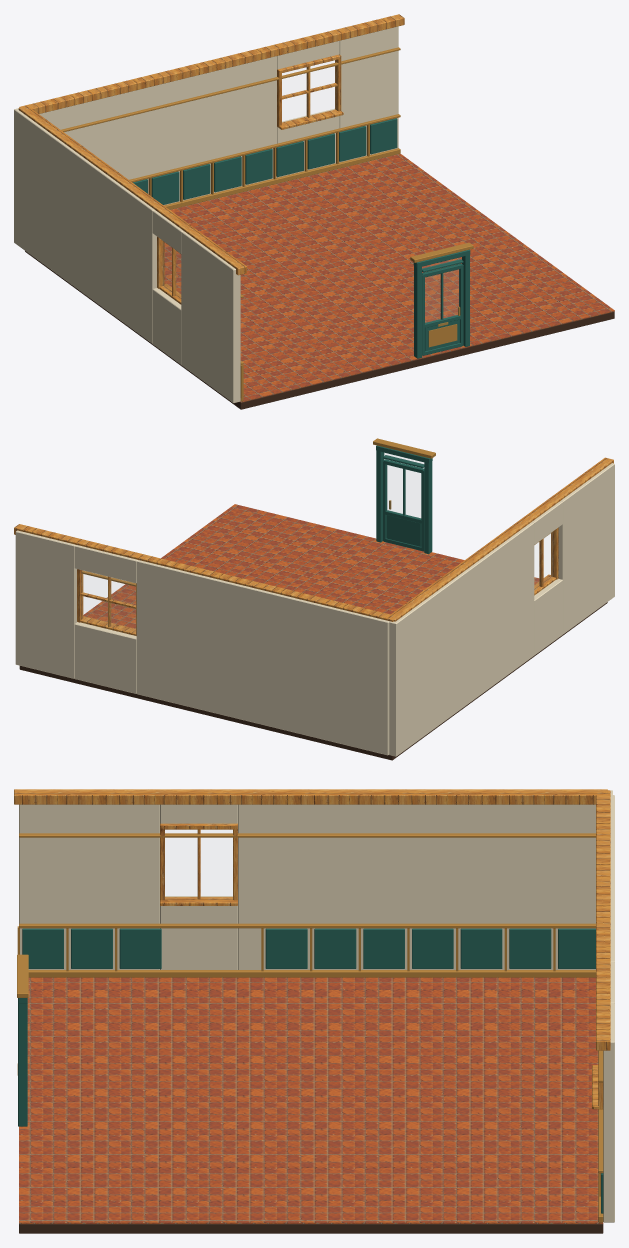
3 renders of one model, top to bottom at view 1: azimuth 30°, elevation 25°; view 2: azimuth 150°, elevation 25°; view 3: azimuth 270°, elevation 25°, orthographic. The views are drawn at different scales.
Visible parts, largest first — view 1: shop_bakery_floor, shop_bakery_wall, shop_oak, shop_bakery_wainscot, shop_bakery_trim, shop_wood_dark, door_leaf_bakery, shop_bakery_door; view 2: shop_bakery_wall, shop_bakery_floor, shop_oak, door_leaf_bakery, shop_wood_dark, shop_bakery_door, shop_bakery_trim; view 3: shop_bakery_floor, shop_bakery_wall, shop_bakery_wainscot, shop_oak, shop_bakery_trim, shop_wood_dark, shop_bakery_door.
Part boxes in pixels (<box>): shop_bakery_floor: <box>164,153,614,402</box>; shop_bakery_wall: <box>14,26,398,403</box>; shop_oak: <box>18,14,404,304</box>; shop_bakery_wainscot: <box>133,118,397,204</box>; shop_bakery_trim: <box>60,47,473,401</box>; shop_wood_dark: <box>25,251,614,409</box>; door_leaf_bakery: <box>422,263,463,355</box>; shop_bakery_door: <box>413,249,470,358</box>; shop_bakery_wall: <box>15,463,614,756</box>; shop_bakery_floor: <box>83,504,539,628</box>; shop_oak: <box>14,457,613,635</box>; door_leaf_bakery: <box>383,459,424,551</box>; shop_wood_dark: <box>19,602,607,760</box>; shop_bakery_door: <box>376,445,432,554</box>; shop_bakery_trim: <box>81,438,553,586</box>; shop_bakery_floor: <box>19,977,603,1223</box>; shop_bakery_wall: <box>19,790,614,1222</box>; shop_bakery_wainscot: <box>22,928,603,1213</box>; shop_oak: <box>14,789,610,1109</box>; shop_bakery_trim: <box>17,833,603,1222</box>; shop_wood_dark: <box>19,1224,603,1233</box>; shop_bakery_door: <box>18,998,27,1126</box>.
Bounding box in the file's own units: 12.34 × 4.41 × 12.34.
9 materials, 2 textured.
